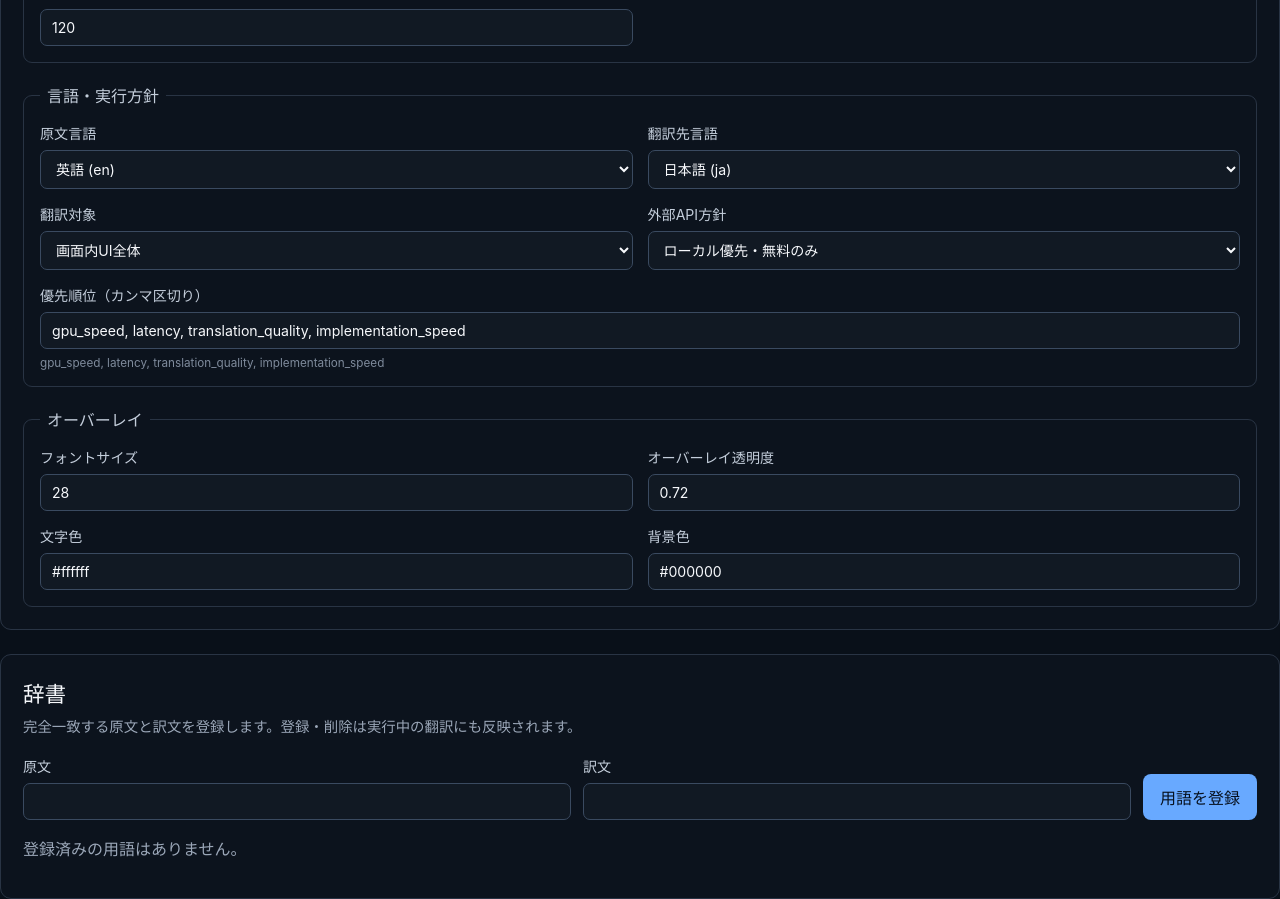
Test: SettingsPanel › 削除不能になる原文「..」の登録エラーをUIに表示する
(page scrolled)
Type ".." into the field labelled "原文" at (297, 802), box [23,783,571,820]
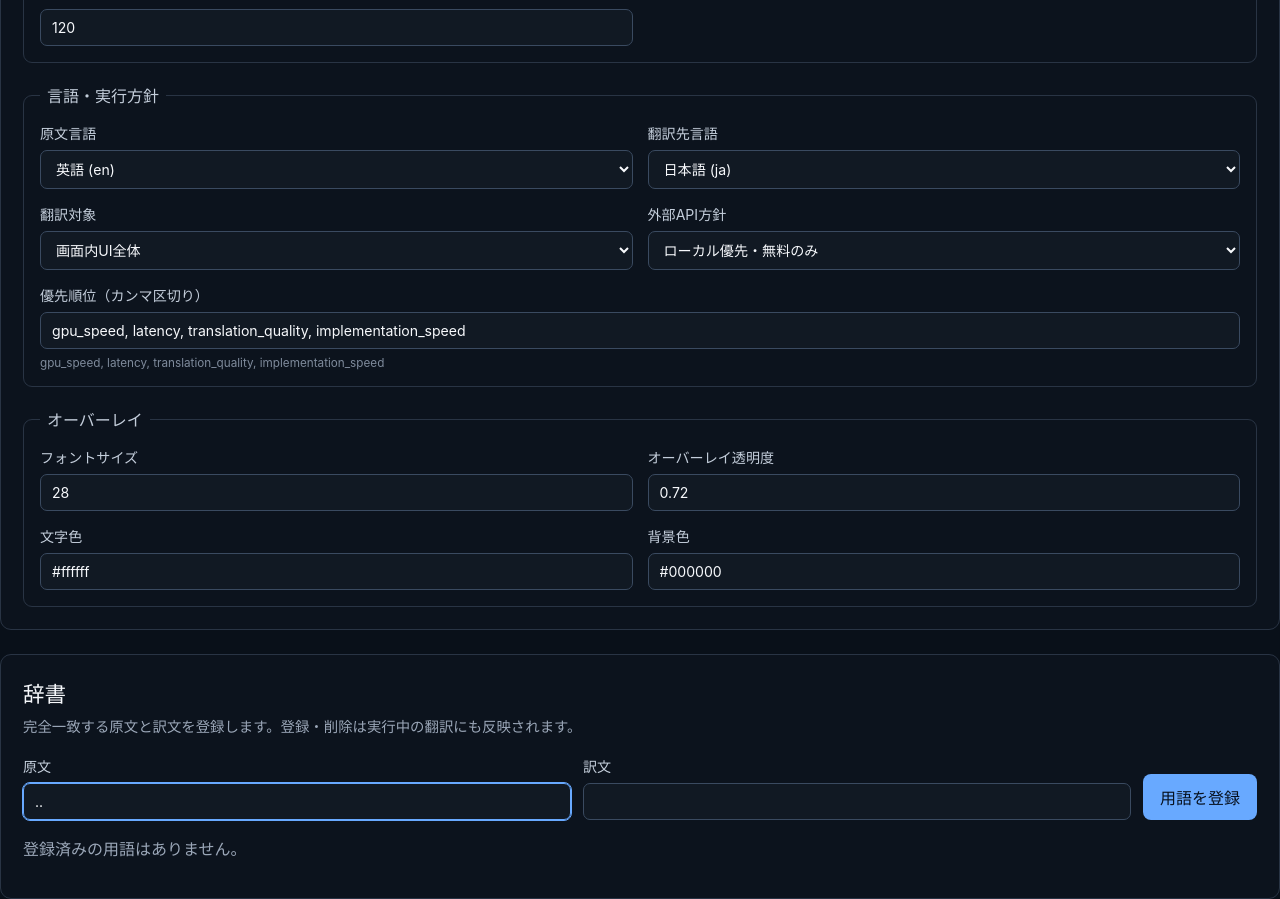
Type "訳" into the field labelled "訳文" at (857, 802), box [583,783,1131,820]
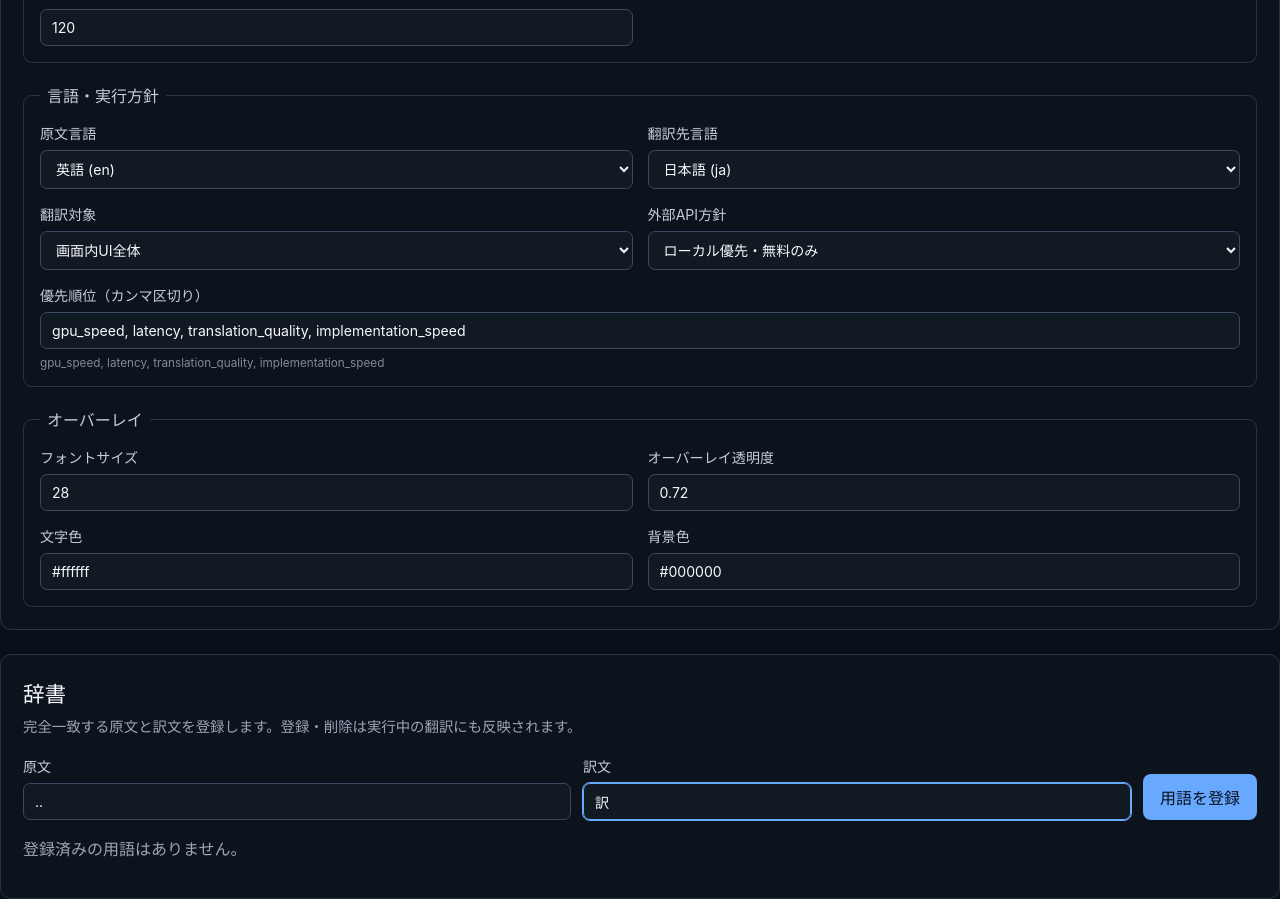
Click the button "用語を登録" at (1200, 797), box [1143,774,1257,820]
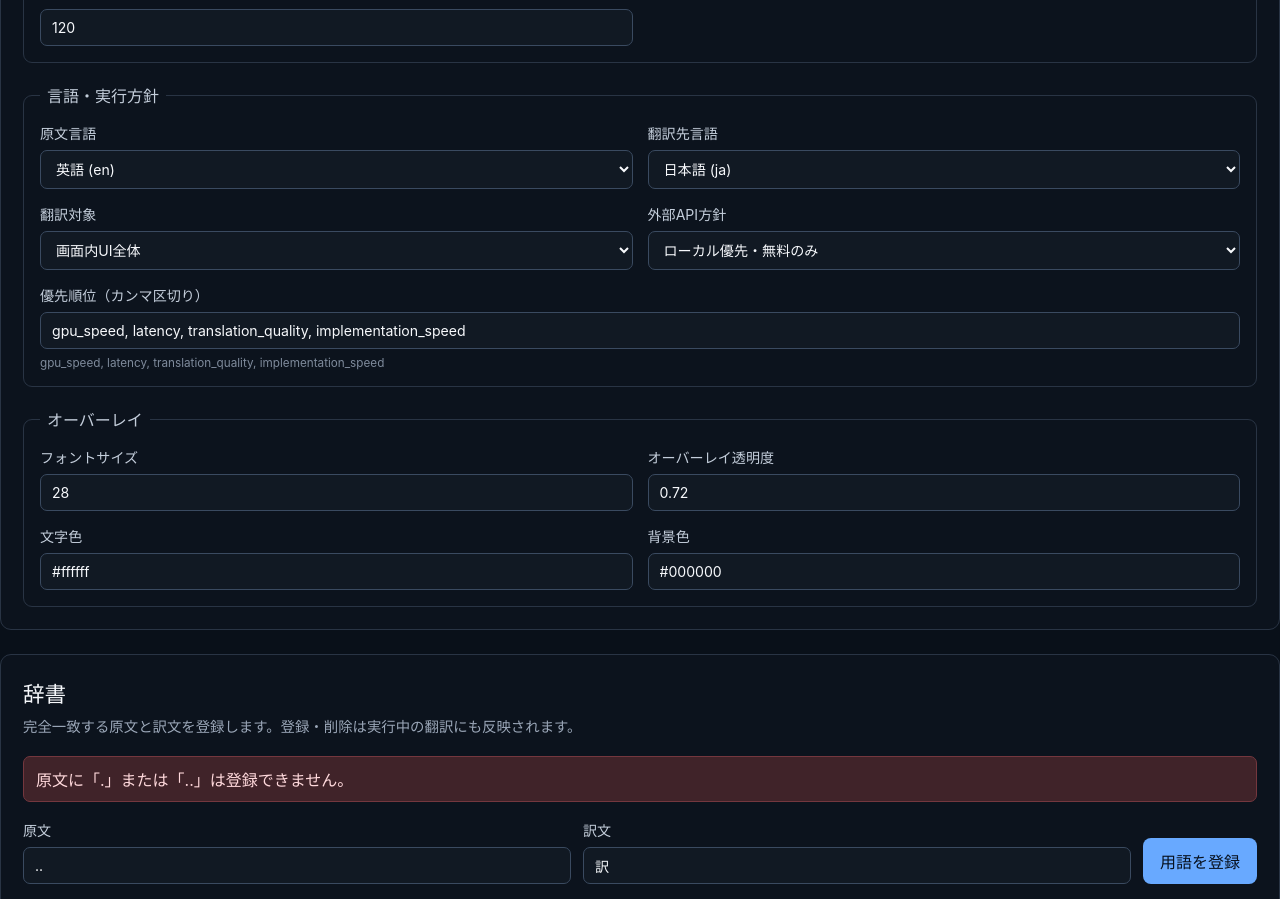
Result: the message reads "原文に「.」または「..」は登録できません。" at [36,770,353,790]
